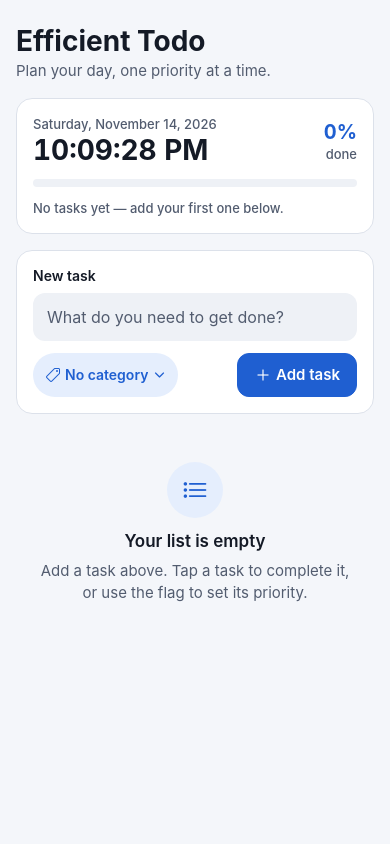
Scenario: App › shows a validation message for an empty task
Check: the text "Your list is empty" is shown, box x1=124 y1=530 x2=266 y2=552
Click the button "Add task": [297, 375] box x1=237 y1=353 x2=357 y2=397
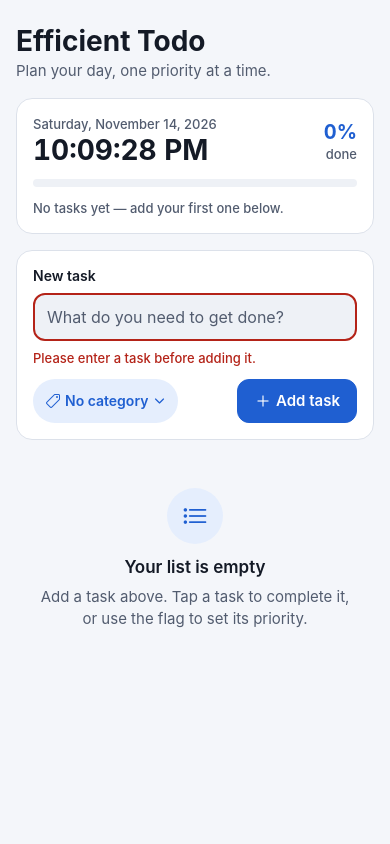
Check: the text "Please enter a task before adding it." is shown, box x1=33 y1=350 x2=256 y2=366
